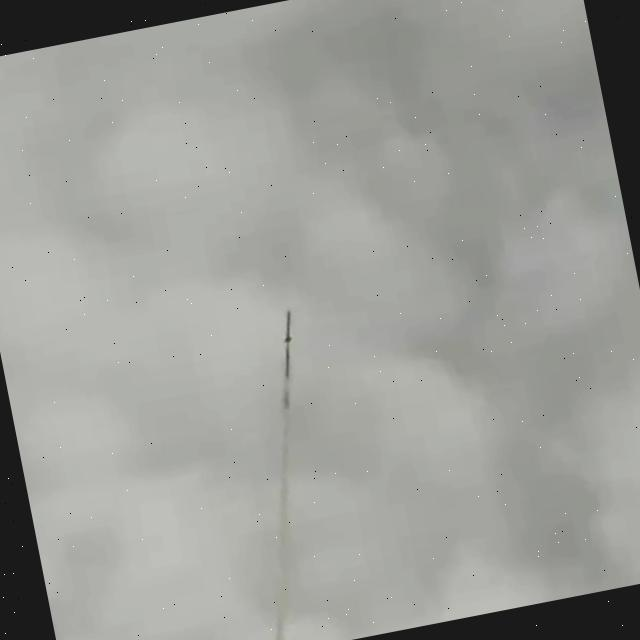smoke_trail_with_rocket: (270, 309, 296, 640)
